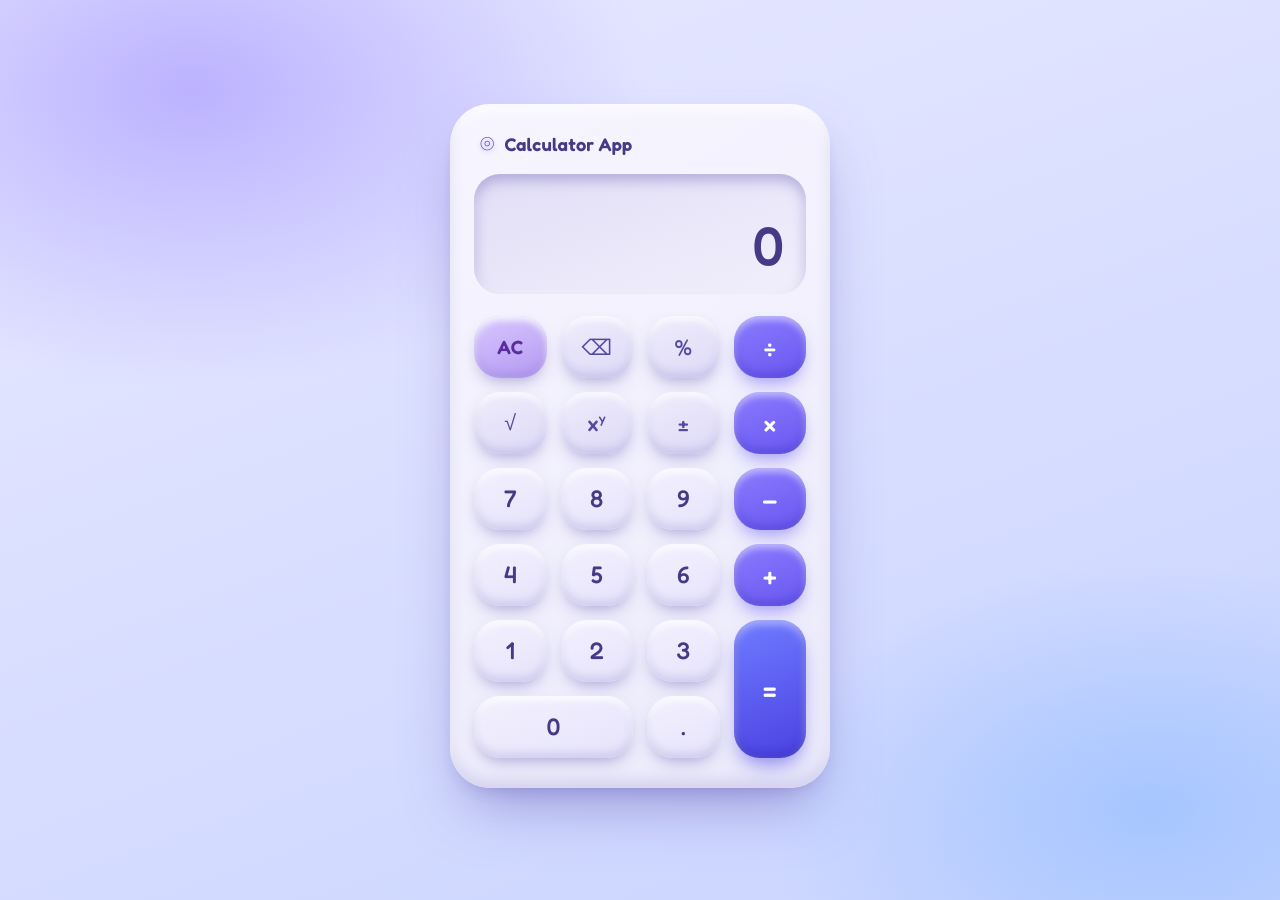
Test: <App /> › evaluates an expression entered with the on-screen keys
The width and height of the screenshot is (1280, 900).
Step 1. Click the button "6" → point(683, 574), box [647,544,720,606]
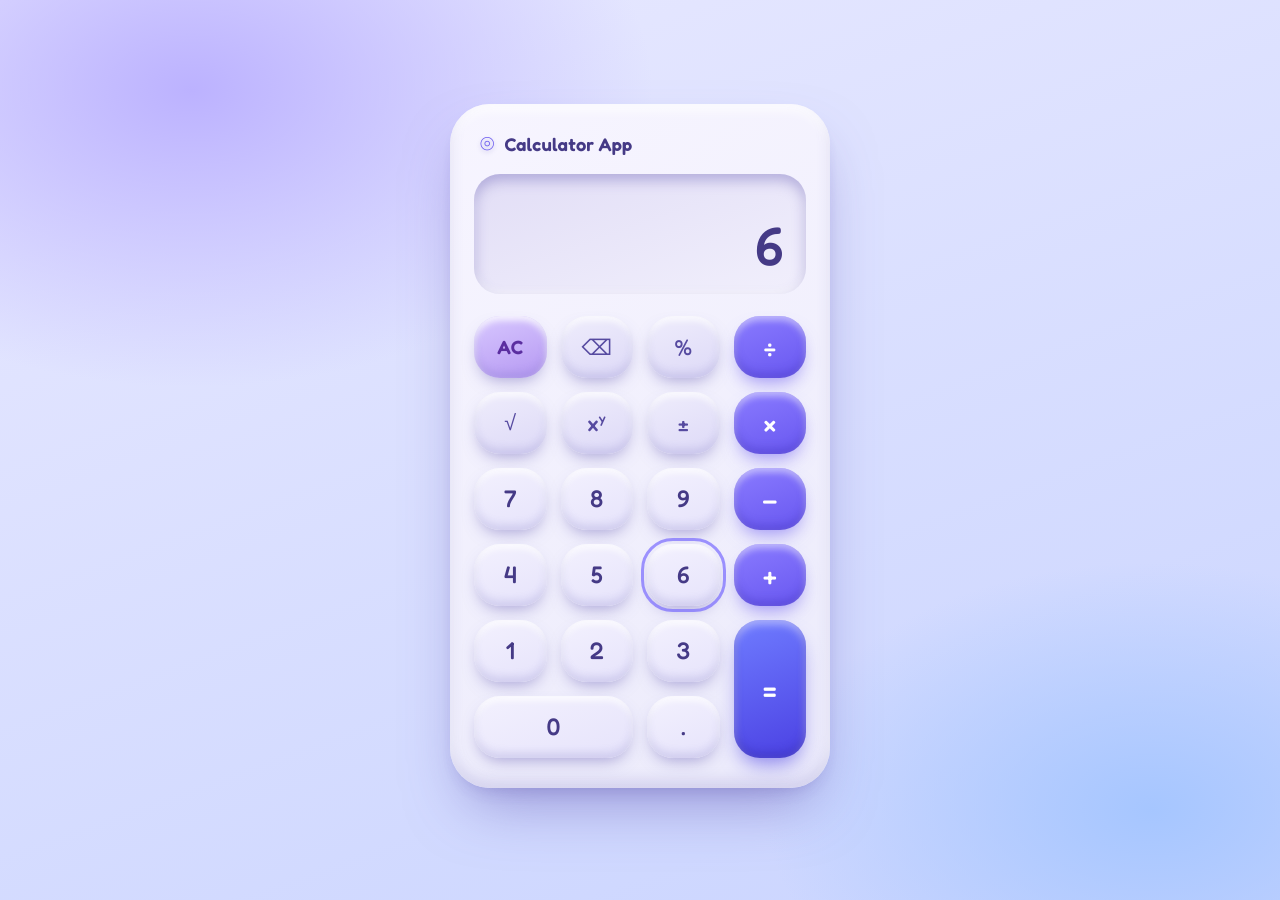
Step 2. Click the button named "Multiply" → point(770, 422), box [734,392,806,454]
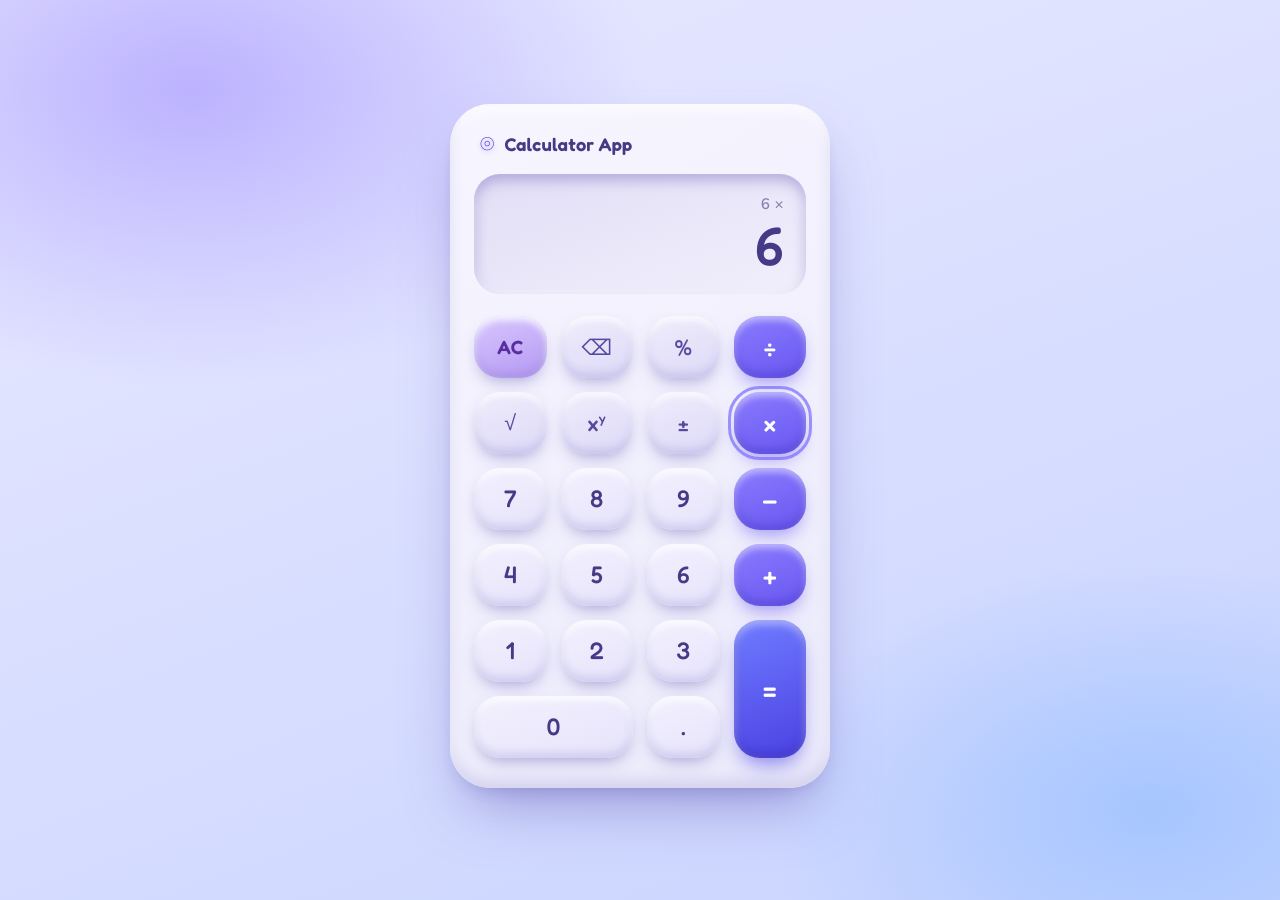
Step 3. Click the button "7" → point(510, 498), box [474,468,546,530]
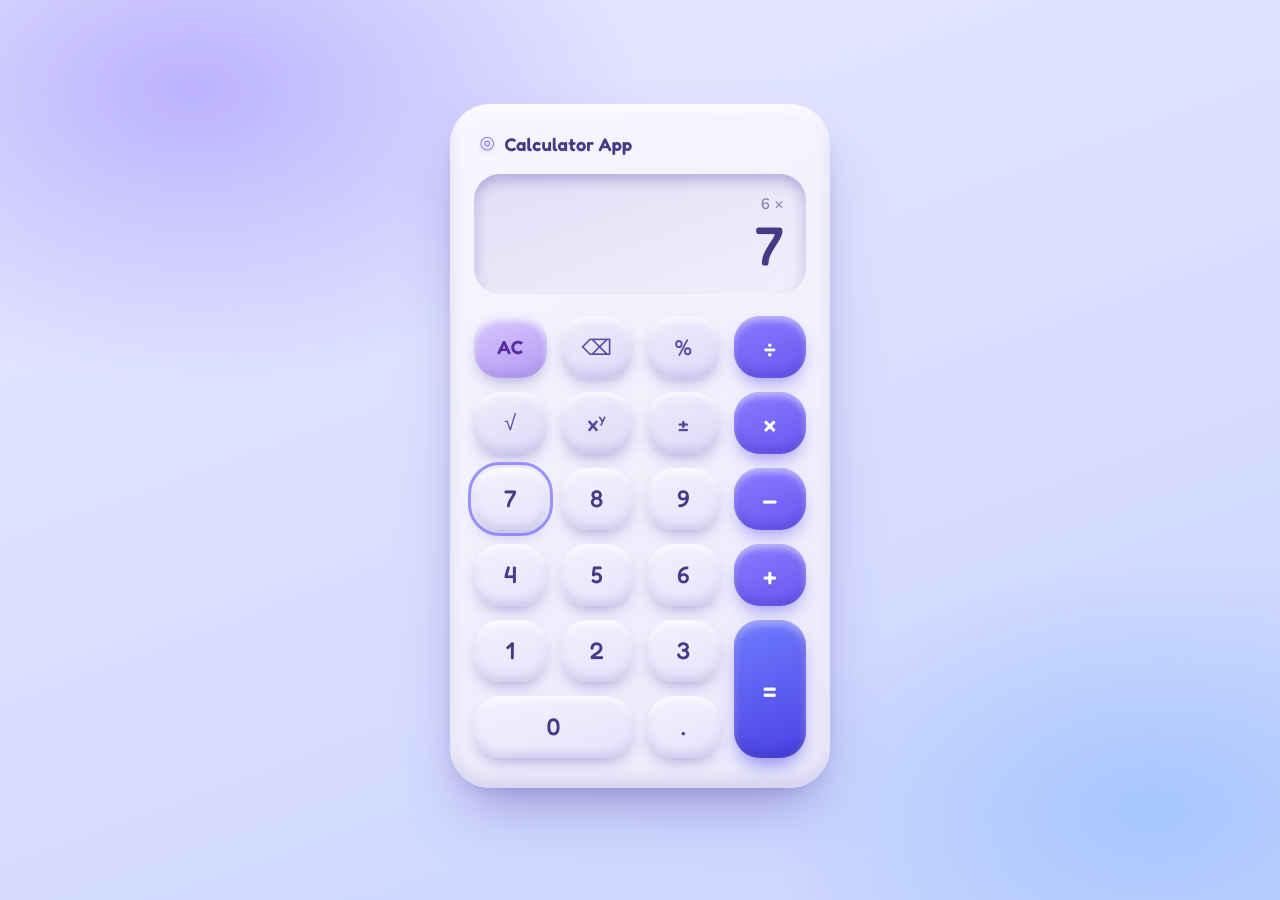
Step 4. Click the button named "Equals" → point(770, 688), box [734,620,806,758]
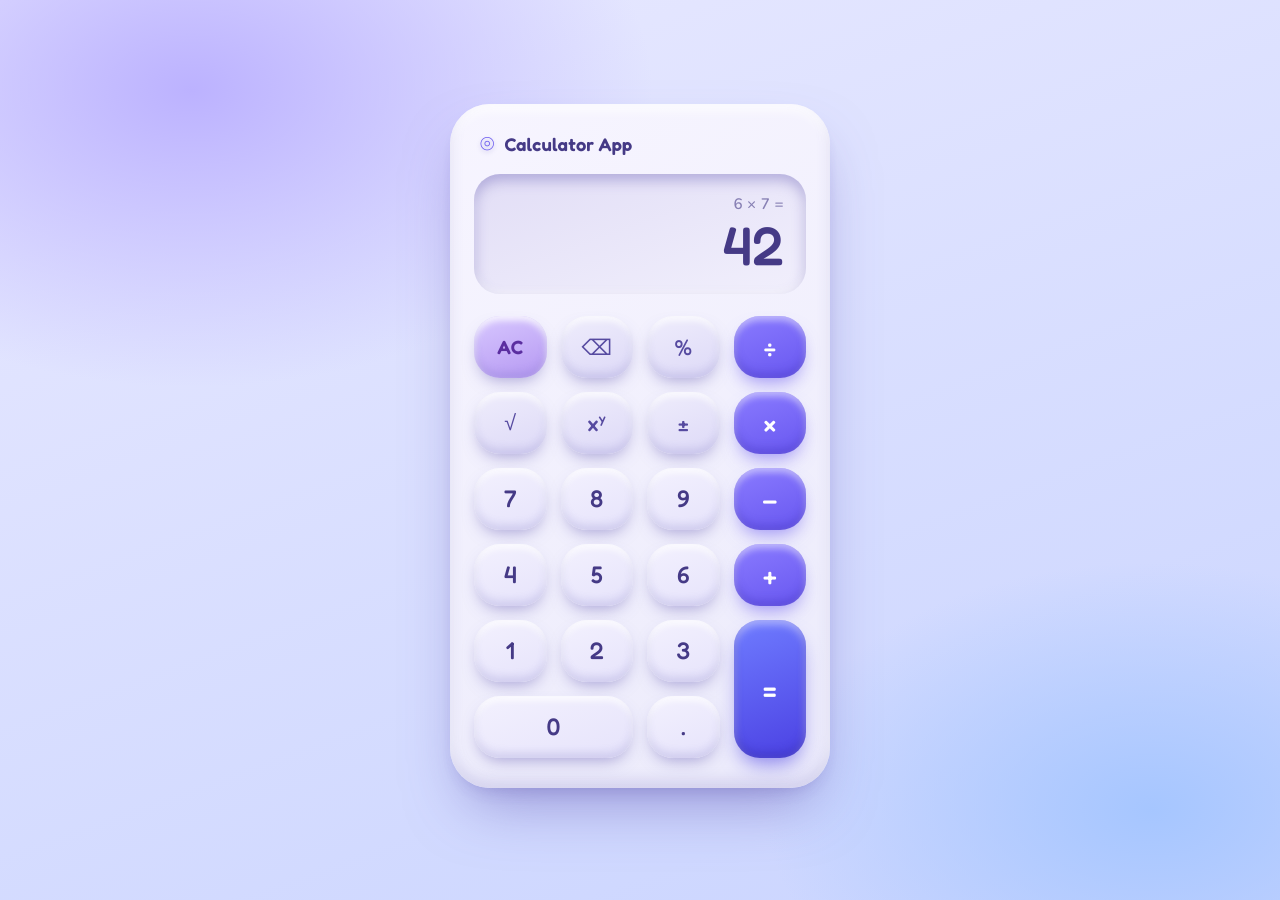
Now the text with test id "display-value" reads "42", box [722,212,784,278]
Now the text with test id "display-expression" reads "6 × 7 =", box [733,194,784,214]
